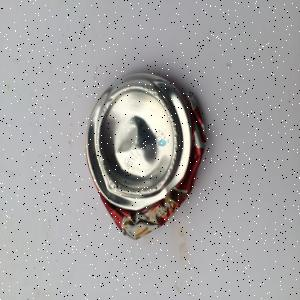Can: (86, 72, 208, 242)
